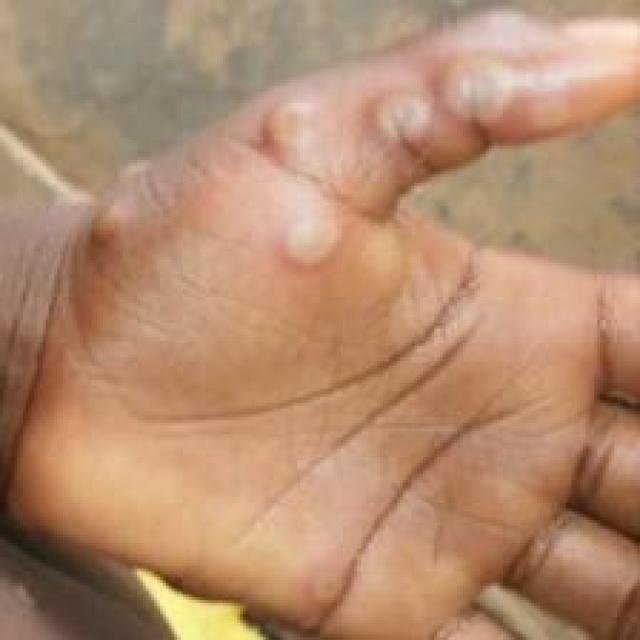monkeypox: (21, 20, 625, 576)
